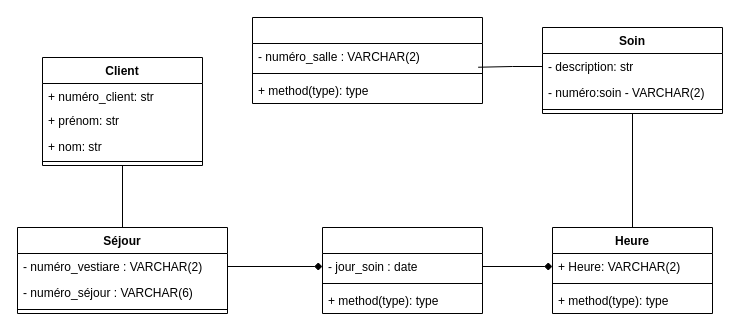
This 740x334 diagram has some shape labels left out. The box of each missing label's shape, as (x1, y1, x2, y2) in pixels:
Lieu: (252, 16, 482, 104)
Planning: (322, 226, 482, 314)
